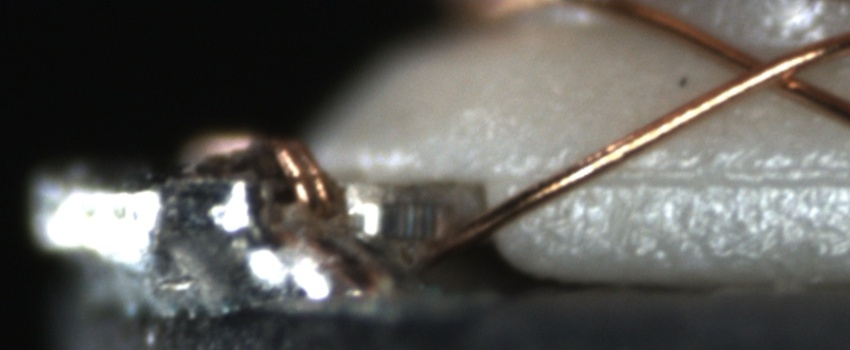CL: (711, 38, 823, 101)
DL: (530, 151, 850, 215)
TE: (192, 123, 338, 208)
